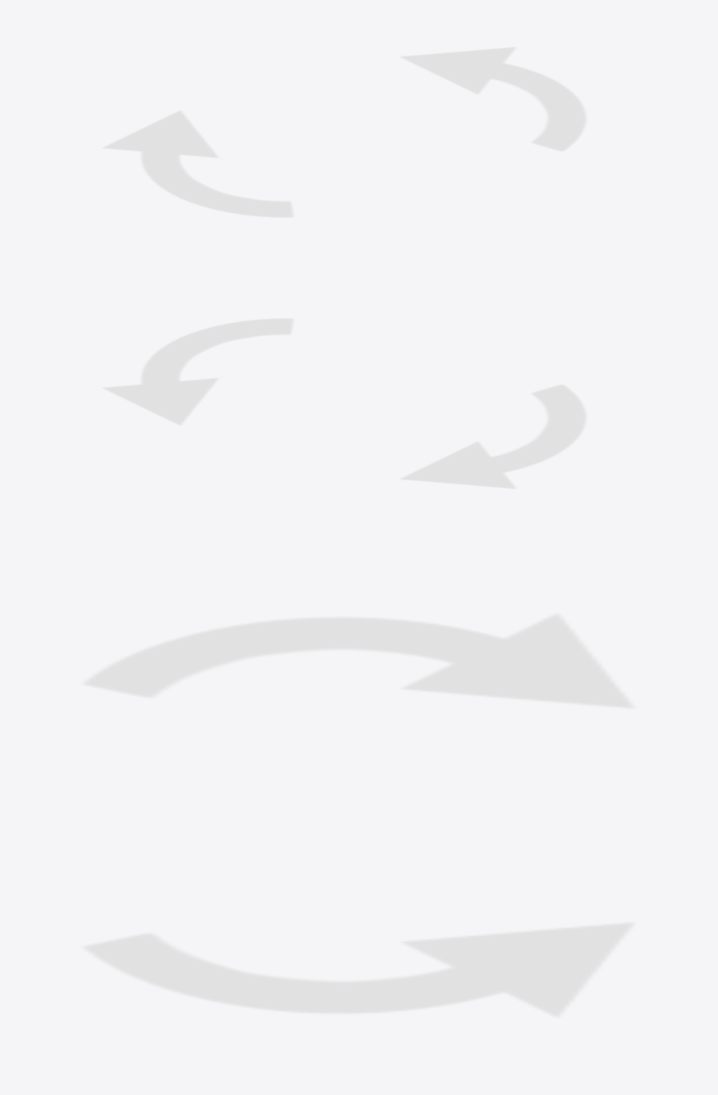
Rendered from bwg_throwline__bwg_arrow_01.glb.
3 views of the same model, one above another, from view 1: azimuth 30°, elevation 25°; view 2: azimuth 150°, elevation 25°; view 3: azimuth 270°, elevation 25° (orthographic). The views are drawn at different scales.
Visible parts, largest first — view 1: polygon0; view 2: polygon0; view 3: polygon0.
Part boxes in pixels (box(x1,y1,x2,y2)): polygon0: box(102, 47, 587, 217); polygon0: box(102, 318, 587, 488); polygon0: box(82, 613, 635, 1017).
Size of the model in its own units: 15 by 0 by 7.
Materials: 1 (1 with a texture image).
